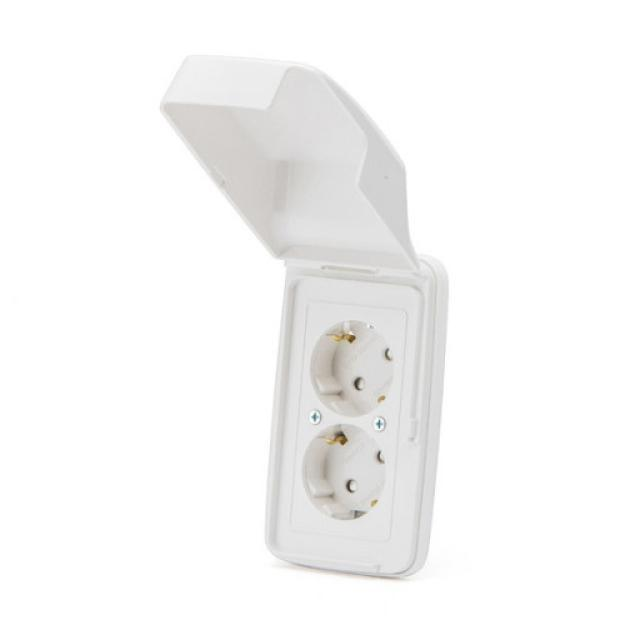typeb: (130, 29, 507, 604)
